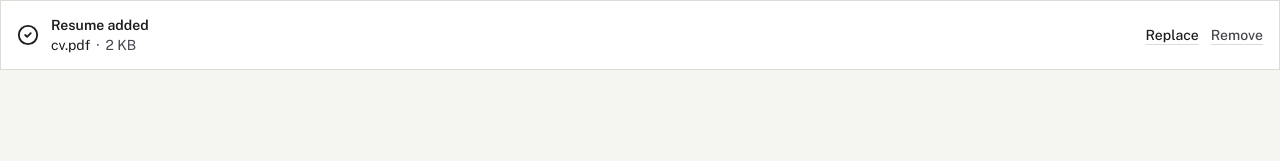
Test: Remove clears the resume and brings the drop area back
Earlier steps of the test are not shown.
Click the button with aria-label "Remove cv.pdf". click: click(1237, 35)
box: [1211,25,1263,45]
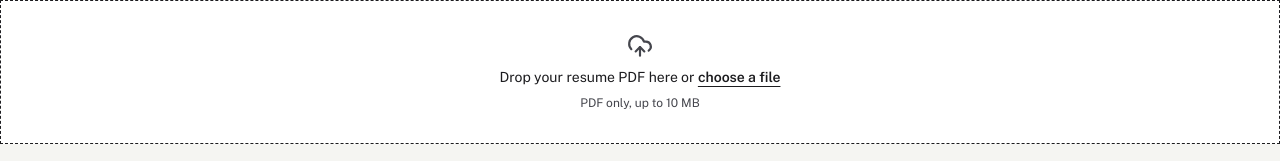
Now the text "Drop your resume PDF here or choose a file" is shown, box [500,67,780,87]
Now the text "cv.pdf" is gone
